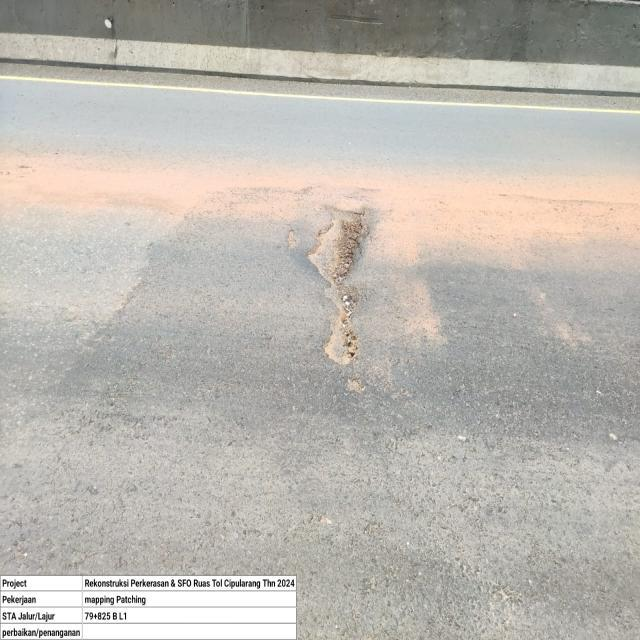Buraco: (300, 203, 375, 369)
